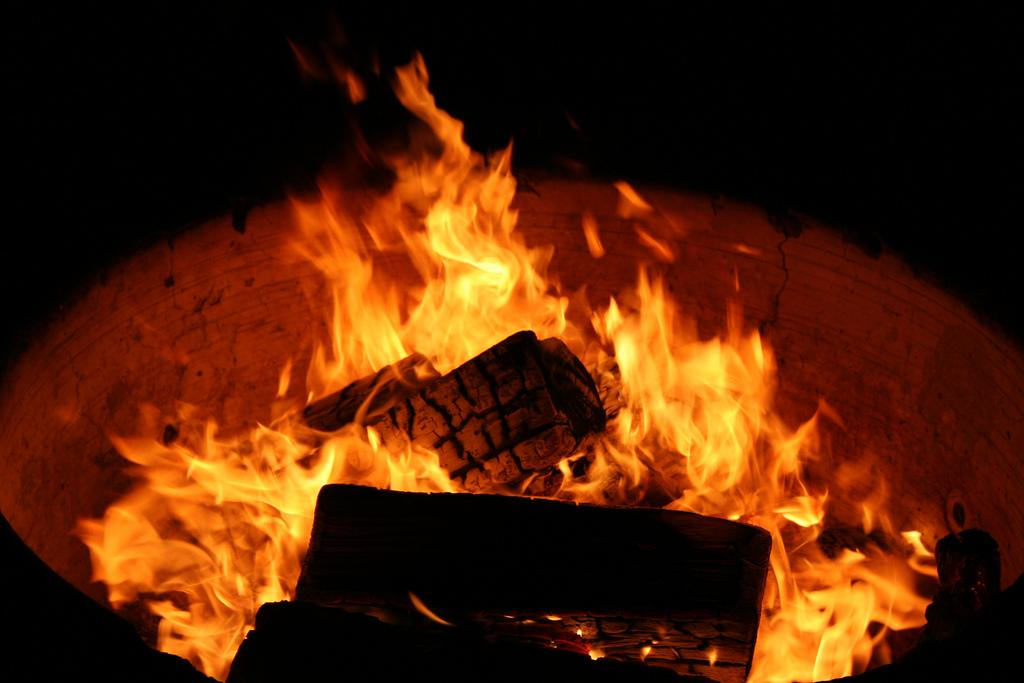fire: (633, 338, 768, 488), (142, 485, 313, 583), (437, 177, 512, 328), (773, 588, 870, 677), (340, 282, 400, 363)
